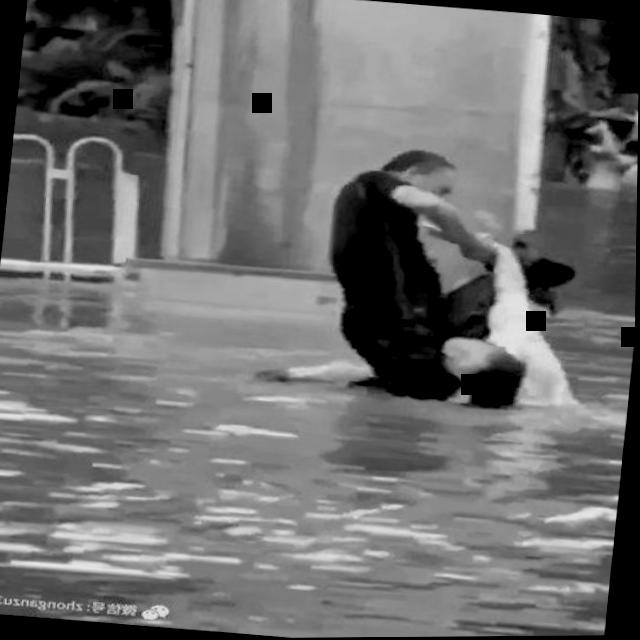Fall-Detected: (421, 228, 621, 426)
